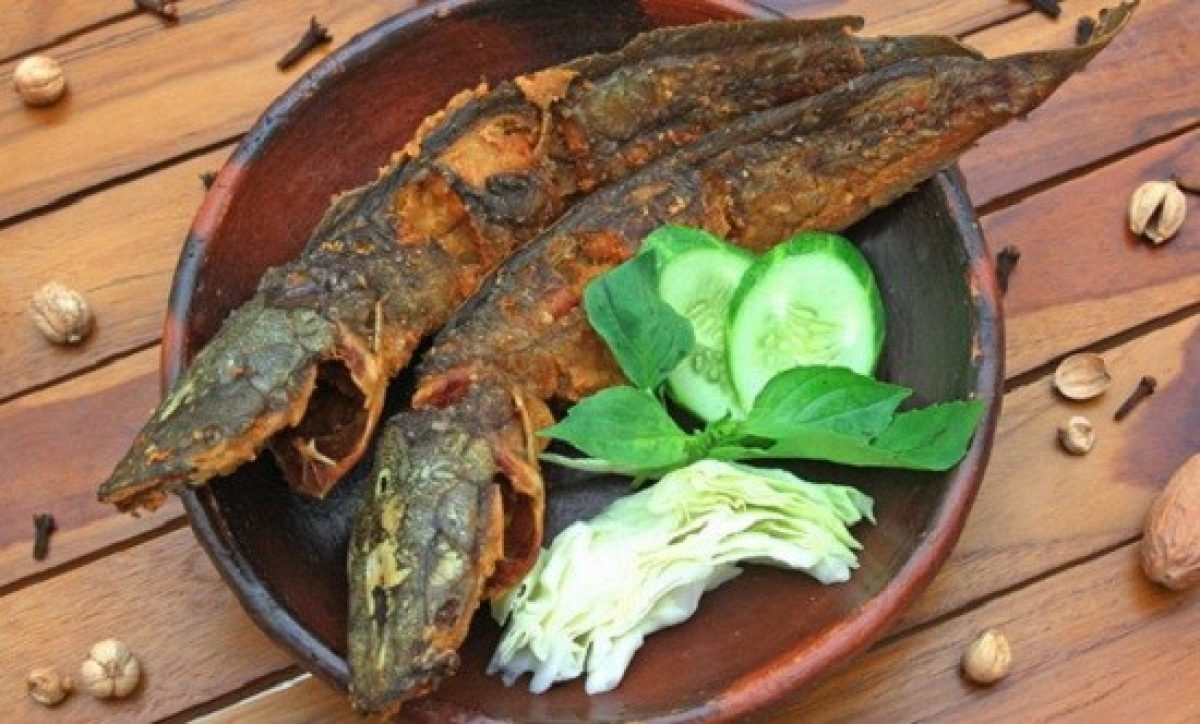pecel_lele: (344, 9, 1068, 708), (63, 9, 965, 513)
